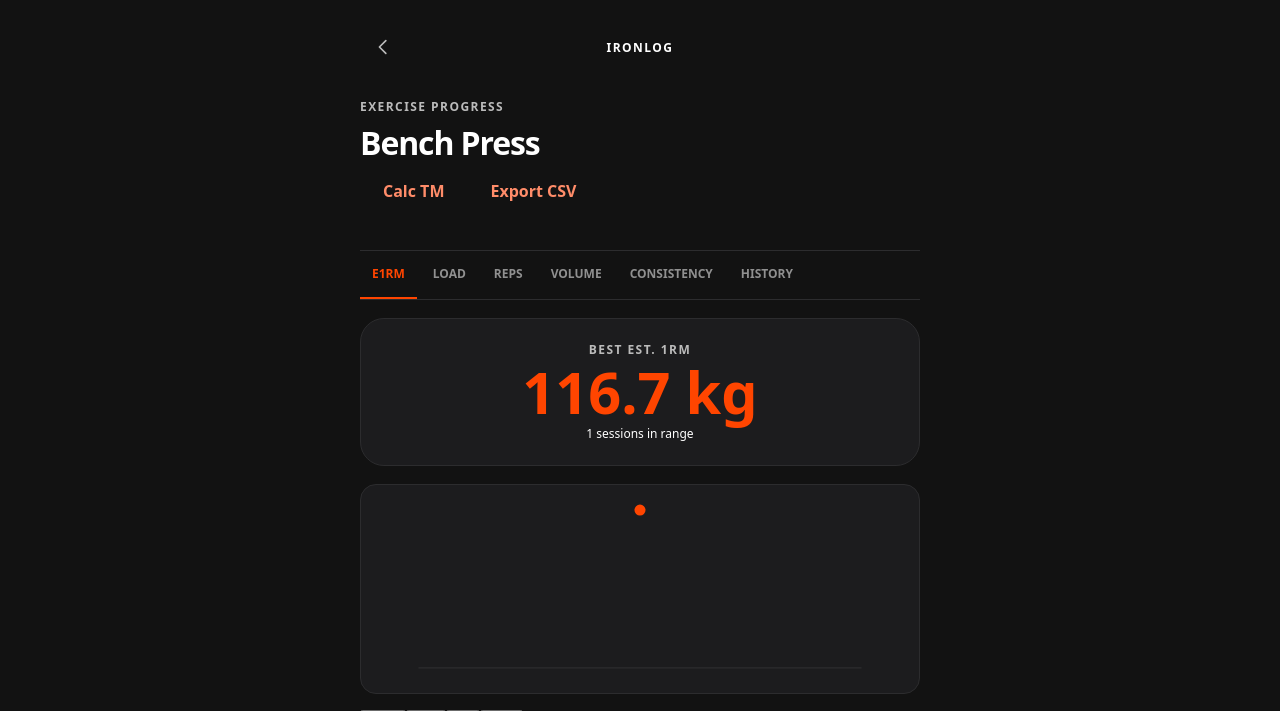
Test case: shows tracking-aware exercise tabs and training max values
Check: the tab "E1RM" is shown, box [360,251,417,299]
Click the button "Calc TM": (414, 191) [360,166,468,216]
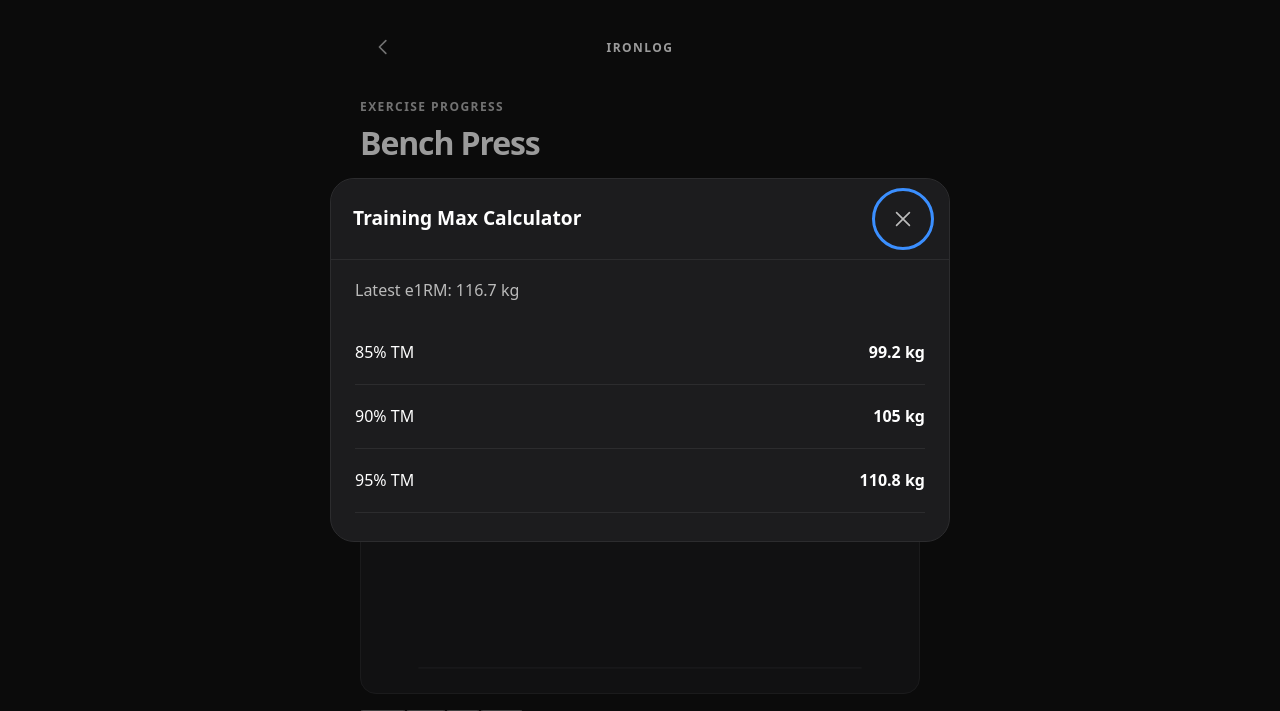
Check: the text "90% TM" is shown, box [355,405,414,428]
